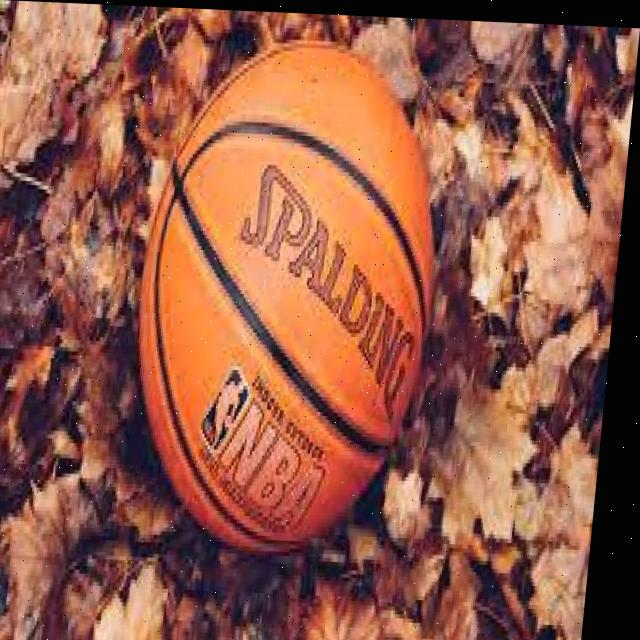Basketball: (113, 37, 456, 560)
